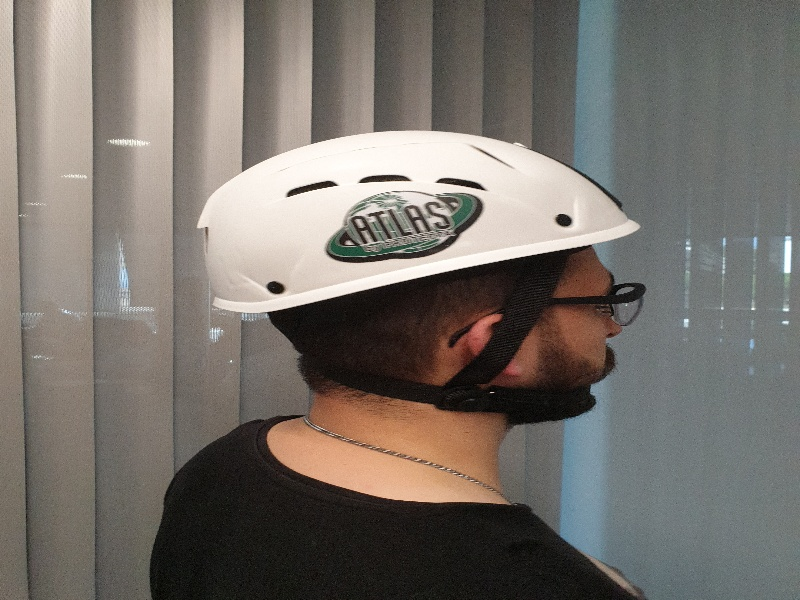Baret: (185, 139, 655, 277)
Gozluk: (547, 279, 655, 327)
